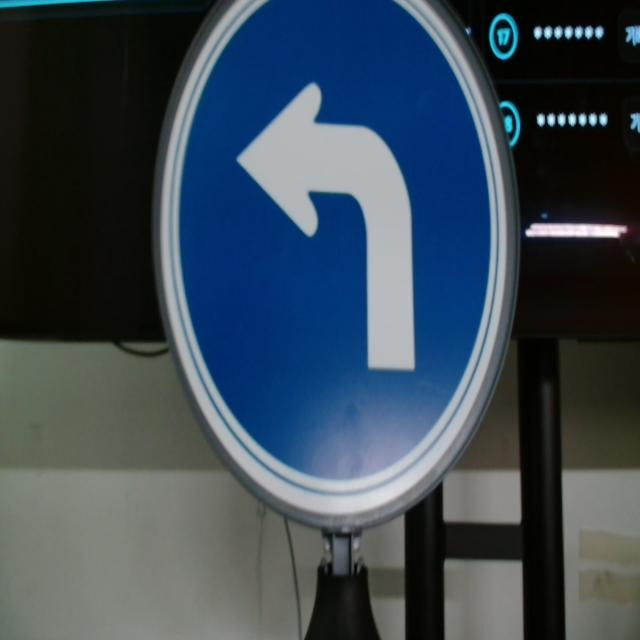left_direction: (149, 6, 524, 528)
